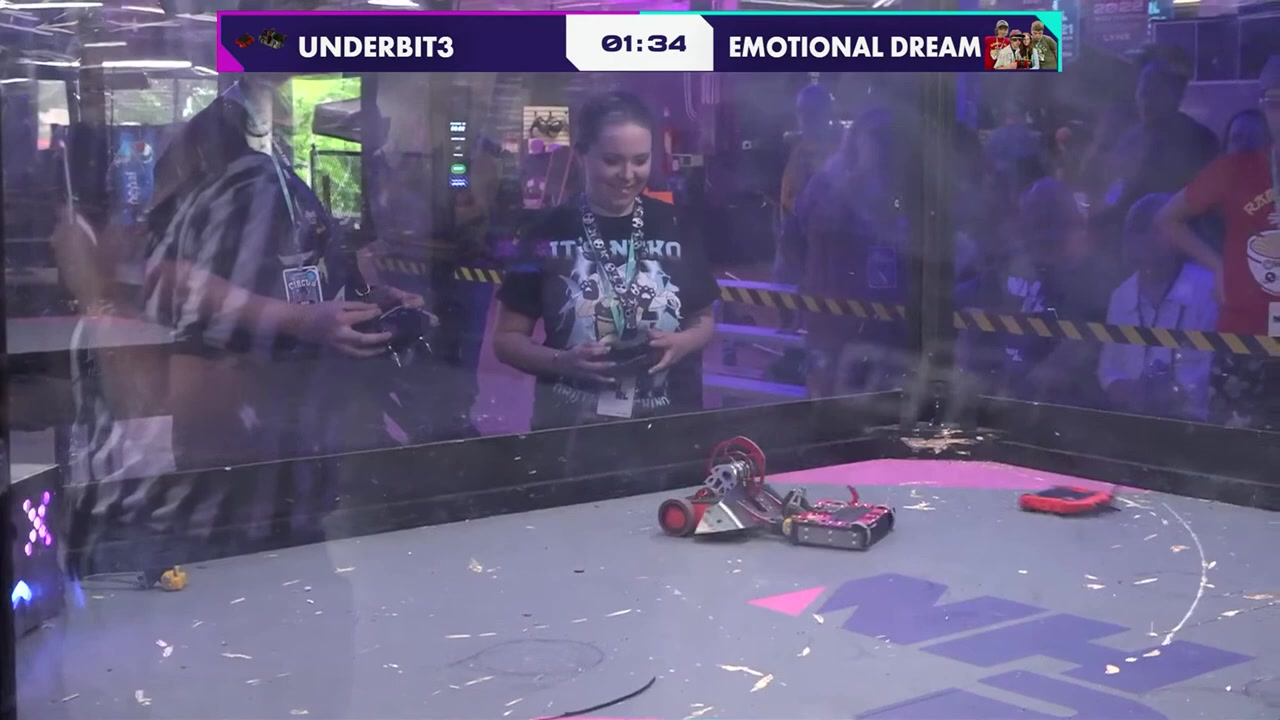combatbot: (654, 440, 773, 544), (773, 481, 898, 552)
debris: (544, 679, 660, 719), (136, 559, 188, 597)
housebot: (2, 465, 79, 639)
minibot: (1018, 475, 1125, 520)
